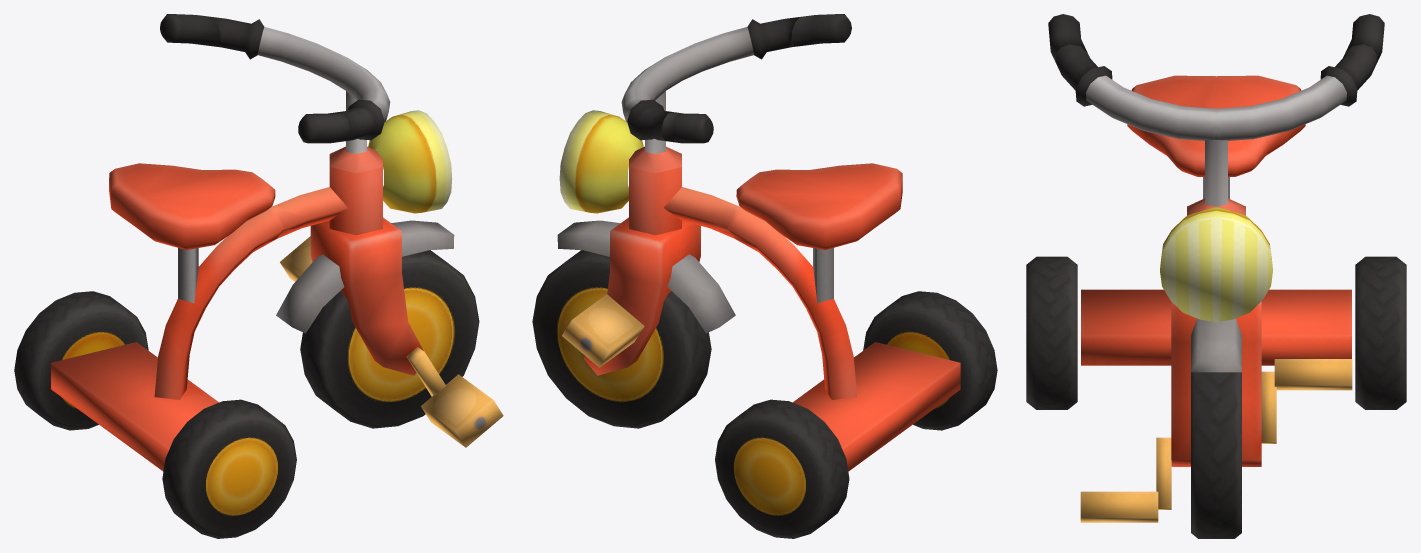
Rendered from bike.glb.
The picture shows the model from 3 angles, left to right: view 1: azimuth 30°, elevation 25°; view 2: azimuth 150°, elevation 25°; view 3: azimuth 270°, elevation 25°; orthographic projection. The views are drawn at different scales.
Parts seen in each view (by area): view 1: bike; view 2: bike; view 3: bike.
Part boxes in pixels (left/top/right/bottom): bike: left=14, top=14, right=503, bottom=538; bike: left=532, top=14, right=997, bottom=538; bike: left=1026, top=14, right=1406, bottom=538.
Bounding box in the file's own units: 1.16 × 1.16 × 0.9156.
Materials: 1 (1 with a texture image).
